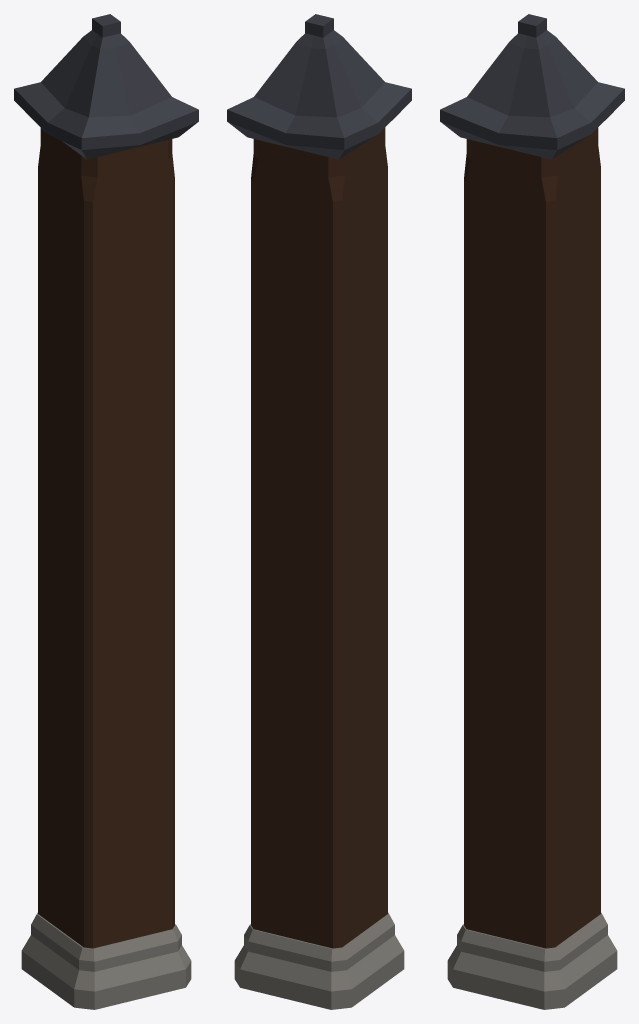
The model's file is rw_pillar.glb.
3 renders of one model, left to right at view 1: azimuth 30°, elevation 25°; view 2: azimuth 150°, elevation 25°; view 3: azimuth 330°, elevation 25°, orthographic.
Parts seen in each view (by area): view 1: rw_pillar__wl_post, rw_pillar__wl_roof, rw_pillar__wl_base; view 2: rw_pillar__wl_post, rw_pillar__wl_roof, rw_pillar__wl_base; view 3: rw_pillar__wl_post, rw_pillar__wl_roof, rw_pillar__wl_base.
Part boxes in pixels (<box>): rw_pillar__wl_post: <box>38,128,174,948</box>; rw_pillar__wl_roof: <box>14,14,198,159</box>; rw_pillar__wl_base: <box>21,912,191,1009</box>; rw_pillar__wl_post: <box>251,127,387,948</box>; rw_pillar__wl_roof: <box>227,14,411,159</box>; rw_pillar__wl_base: <box>234,912,404,1009</box>; rw_pillar__wl_post: <box>464,127,600,948</box>; rw_pillar__wl_roof: <box>440,14,624,159</box>; rw_pillar__wl_base: <box>447,912,617,1009</box>.
Bounding box in the file's own units: 9 × 70 × 9.
